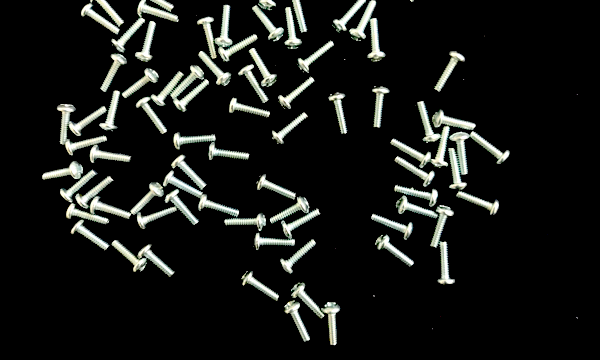shortscrew: (433, 50, 466, 94), (469, 132, 511, 166), (59, 170, 99, 204), (375, 234, 415, 268), (296, 41, 337, 74), (138, 244, 176, 279), (277, 77, 316, 111), (151, 71, 185, 110), (279, 240, 318, 274), (80, 4, 121, 36), (171, 155, 207, 191), (198, 51, 233, 88), (76, 177, 115, 210), (240, 269, 280, 301), (238, 65, 269, 106), (395, 157, 437, 187), (248, 47, 278, 89), (291, 283, 326, 319), (173, 80, 210, 114), (270, 113, 308, 146), (252, 5, 285, 43), (70, 221, 110, 252), (283, 300, 311, 344), (331, 0, 366, 35), (110, 19, 145, 54), (165, 191, 200, 226), (171, 64, 205, 100), (111, 240, 147, 274), (349, 0, 377, 43), (281, 209, 321, 239), (455, 192, 501, 218), (371, 214, 414, 241), (392, 139, 432, 168), (270, 196, 310, 225), (131, 182, 165, 216), (69, 107, 107, 137), (218, 35, 258, 63), (256, 174, 297, 201), (100, 54, 128, 93), (123, 68, 159, 98), (429, 206, 454, 249), (395, 196, 438, 221), (199, 194, 241, 219), (165, 170, 202, 198), (417, 101, 441, 144), (396, 185, 439, 208), (228, 97, 271, 120), (134, 21, 157, 63), (91, 195, 131, 219), (432, 110, 477, 131), (90, 0, 125, 27), (66, 203, 111, 224), (99, 91, 122, 132), (137, 207, 178, 230), (137, 0, 179, 22), (65, 135, 108, 156), (436, 242, 456, 287), (42, 161, 84, 182), (367, 19, 387, 63), (198, 16, 218, 59), (447, 147, 466, 192), (450, 133, 470, 175), (329, 93, 349, 135), (431, 126, 450, 170), (252, 233, 296, 252), (322, 303, 341, 347), (285, 0, 308, 34), (371, 87, 390, 128), (57, 104, 76, 145), (225, 213, 266, 232), (284, 8, 302, 51), (215, 5, 233, 48), (173, 133, 216, 151), (210, 143, 250, 162), (90, 146, 132, 164), (134, 0, 174, 11), (258, 0, 278, 12), (408, 0, 444, 3)
